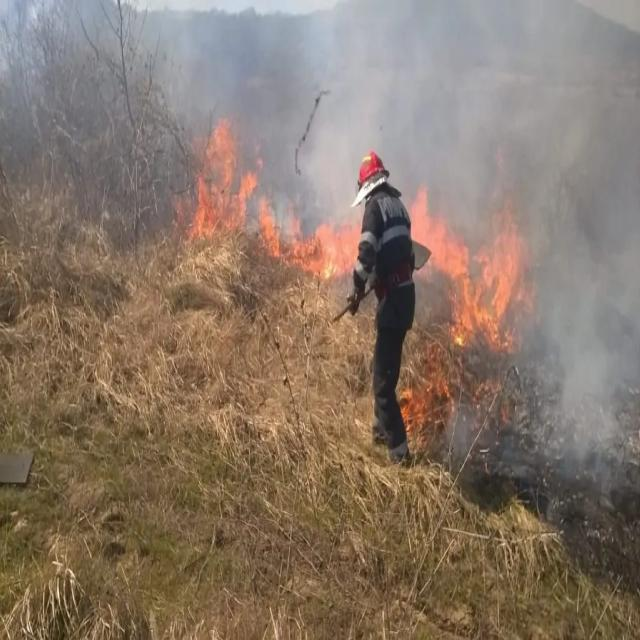Fire: (199, 137, 338, 279), (429, 210, 542, 354)
Smoke: (173, 4, 640, 224), (497, 23, 640, 500)
